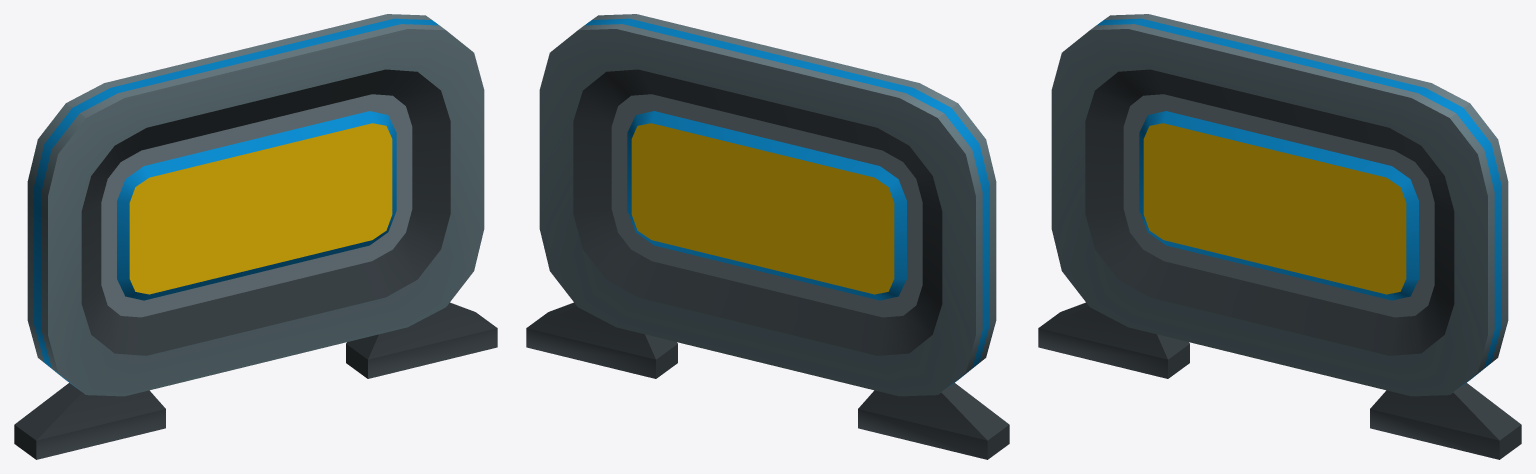
File: Fence_type_C_014.fbx
3 views of the same model, side by side, from view 1: azimuth 30°, elevation 25°; view 2: azimuth 150°, elevation 25°; view 3: azimuth 330°, elevation 25° (orthographic).
Parts seen in each view (by area): view 1: Fence_type_C_014; view 2: Fence_type_C_014; view 3: Fence_type_C_014.
Boxes of the visible parts, x1=… form: Fence_type_C_014: x1=14, y1=14, x2=497, y2=459; Fence_type_C_014: x1=526, y1=14, x2=1009, y2=459; Fence_type_C_014: x1=1038, y1=14, x2=1521, y2=459.
Bounding box in the file's own units: 201 × 16.53 × 141.
